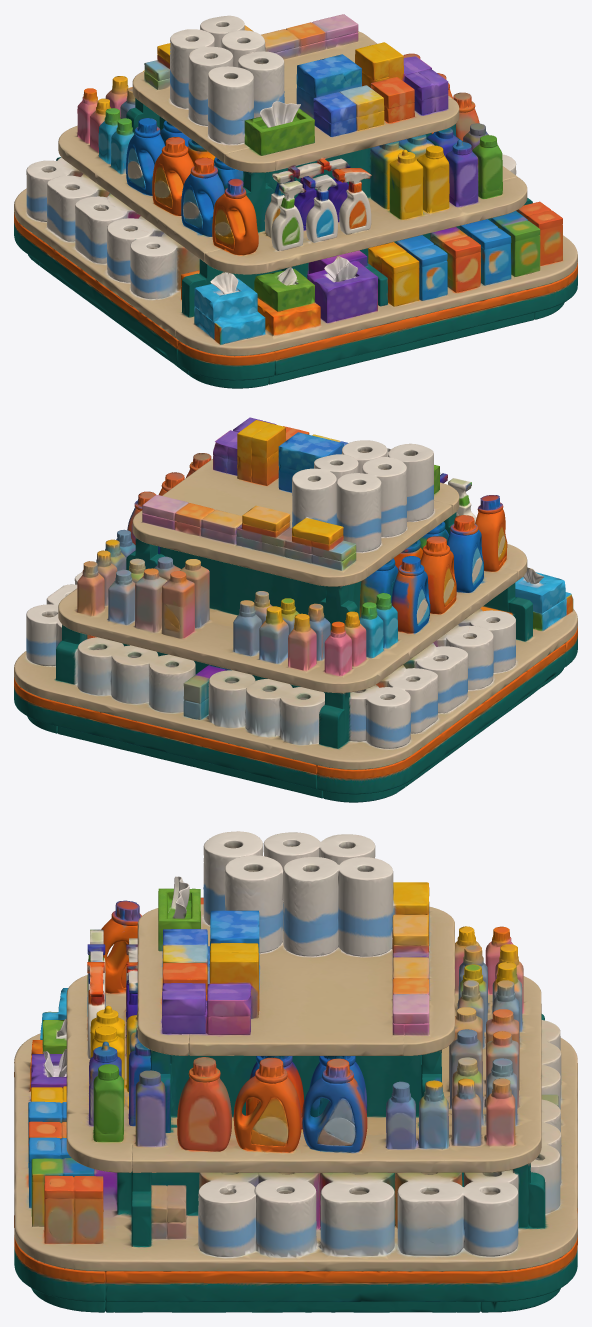
The model's file is GroceryDisplay.glb.
3 renders of one model, top to bottom at view 1: azimuth 30°, elevation 25°; view 2: azimuth 150°, elevation 25°; view 3: azimuth 270°, elevation 25°, orthographic. The views are drawn at different scales.
Visible parts, largest first — view 1: tripo_node_faa6d430-52a2-41e9-bbd7-e6dfc404c9ff; view 2: tripo_node_faa6d430-52a2-41e9-bbd7-e6dfc404c9ff; view 3: tripo_node_faa6d430-52a2-41e9-bbd7-e6dfc404c9ff.
Boxes of the visible parts, box(x1,y1,x2,y2) form: tripo_node_faa6d430-52a2-41e9-bbd7-e6dfc404c9ff: box(14, 14, 577, 388); tripo_node_faa6d430-52a2-41e9-bbd7-e6dfc404c9ff: box(14, 417, 577, 802); tripo_node_faa6d430-52a2-41e9-bbd7-e6dfc404c9ff: box(14, 831, 577, 1312).
Size of the model in its own units: 0.9795 by 0.5849 by 0.9791.
Materials: 1 (1 with a texture image).
